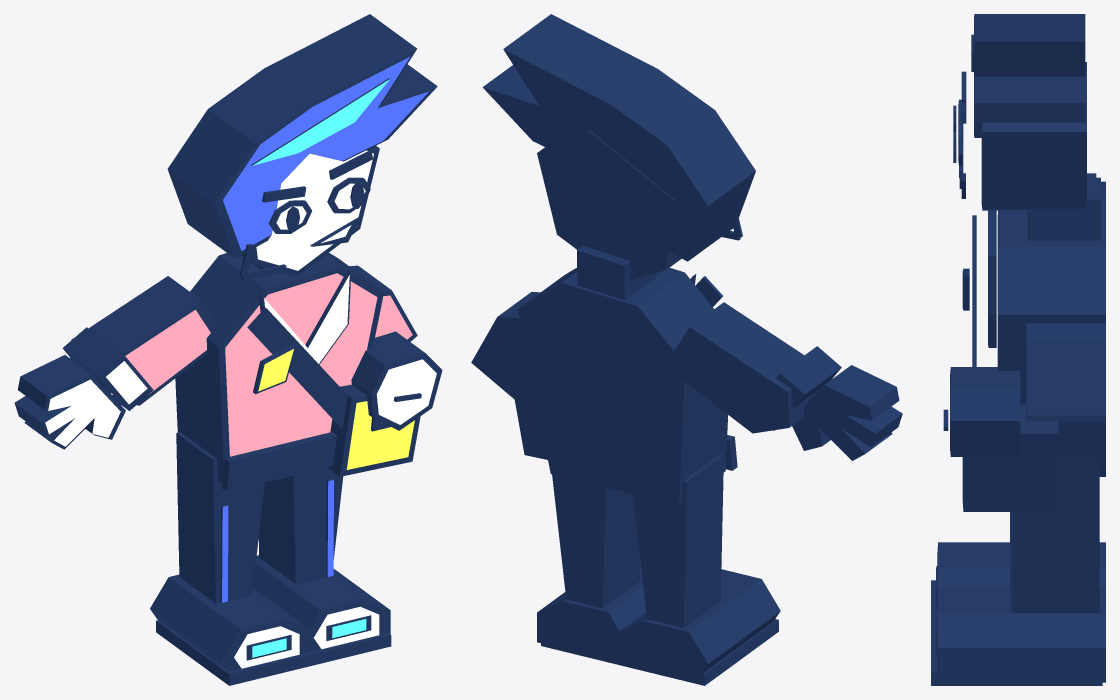
The model's file is courier_clerk.glb.
The picture shows the model from 3 angles, left to right: view 1: azimuth 30°, elevation 25°; view 2: azimuth 150°, elevation 25°; view 3: azimuth 270°, elevation 25°; orthographic projection. The views are drawn at different scales.
Parts seen in each view (by area): view 1: HeadPivot_Art, BodyPivot_Art, LeftLegPivot_Art, LeftArmPivot_Art, RightLegPivot_Art, RightArmPivot_Art; view 2: HeadPivot_Art, BodyPivot_Art, LeftLegPivot_Art, LeftArmPivot_Art, RightLegPivot_Art, RightArmPivot_Art; view 3: RightLegPivot_Art, HeadPivot_Art, BodyPivot_Art, RightArmPivot_Art, LeftLegPivot_Art.
Part boxes in pixels (box(x1,y1,x2,y2)): HeadPivot_Art: box(167, 14, 437, 280); BodyPivot_Art: box(175, 253, 420, 491); LeftLegPivot_Art: box(150, 432, 311, 685); LeftArmPivot_Art: box(14, 276, 217, 449); RightLegPivot_Art: box(253, 467, 391, 665); RightArmPivot_Art: box(349, 265, 442, 430); HeadPivot_Art: box(482, 14, 755, 299); BodyPivot_Art: box(514, 267, 737, 505); LeftLegPivot_Art: box(618, 454, 780, 685); LeftArmPivot_Art: box(668, 302, 902, 460); RightLegPivot_Art: box(537, 474, 646, 665); RightArmPivot_Art: box(471, 292, 540, 400); RightLegPivot_Art: box(931, 457, 1105, 685); HeadPivot_Art: box(953, 14, 1100, 240); BodyPivot_Art: box(962, 209, 1105, 511); RightArmPivot_Art: box(943, 323, 1105, 456); LeftLegPivot_Art: box(931, 542, 1105, 626).
Size of the model in its own units: 1.64 by 2.33 by 0.552.
